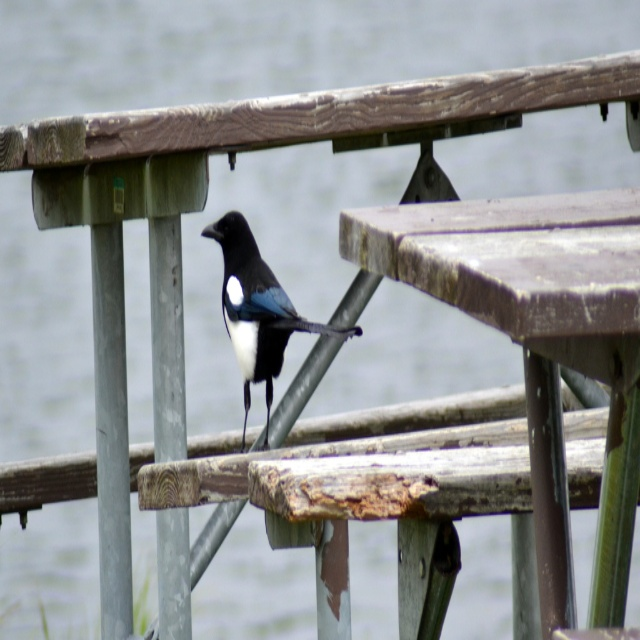Magpie: (202, 211, 361, 452)
